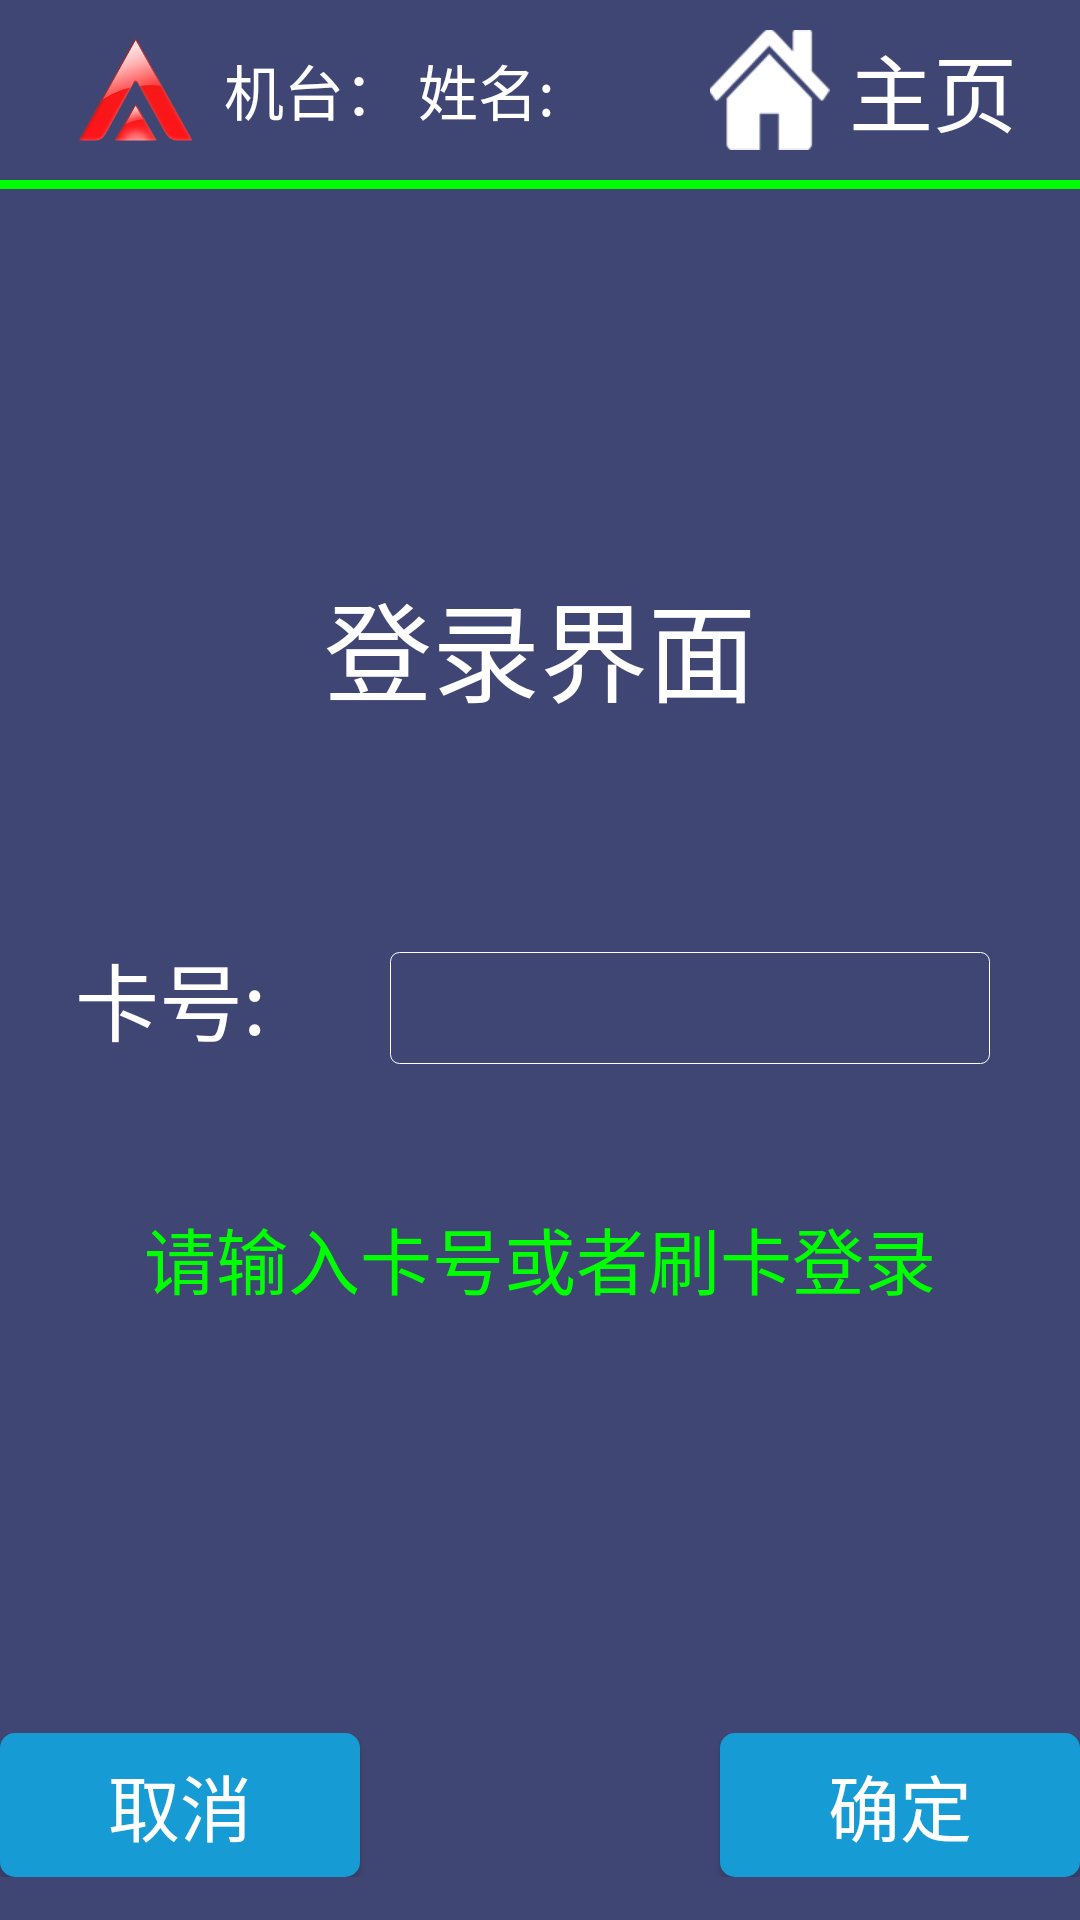

Screen size 1080w x 1920h. Icon name, then its center in pixels as (x=x, y=y):
main: (x=770, y=90)
